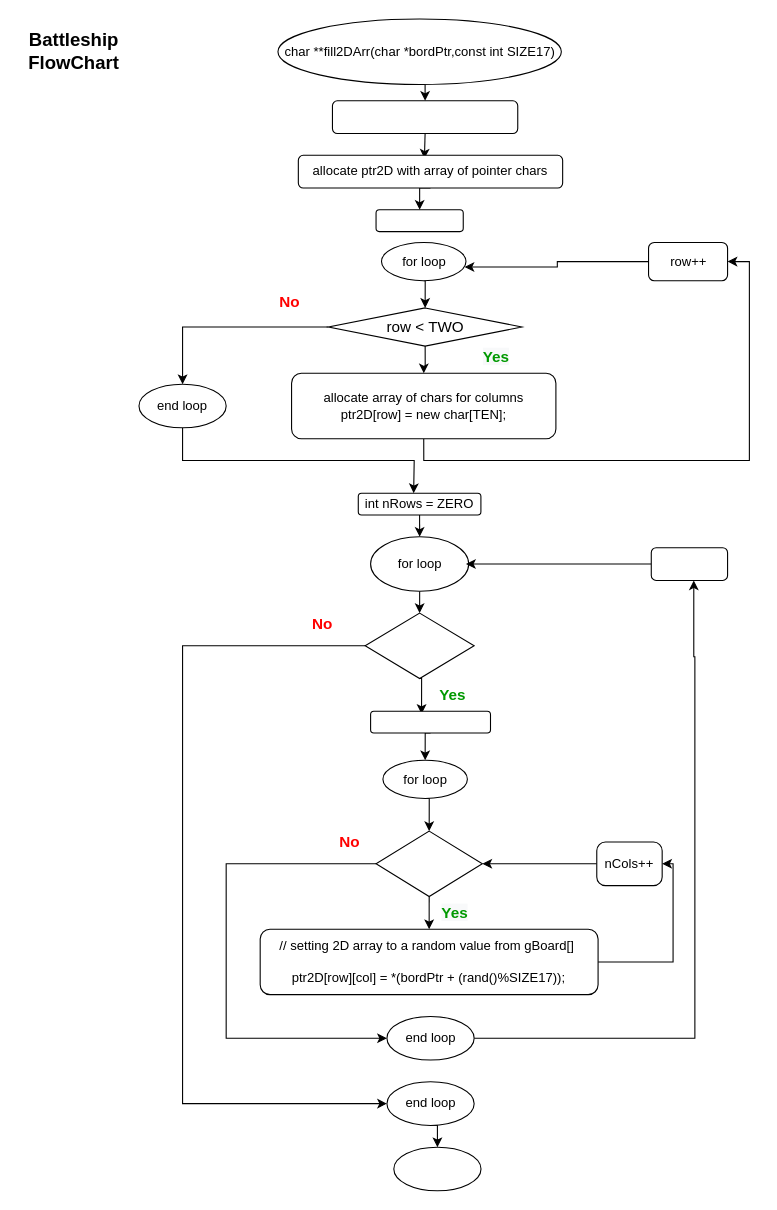
Image size: 777x1210. Some labels were removed from this diagram. Each missing label, with the box of its shape:
declare **ptr2D & set to null: (331, 100, 518, 134)
int nCols=ZERO: (370, 710, 491, 733)
int row = 0: (375, 209, 463, 232)
nCols < TEN: (375, 830, 482, 897)
nRows < TWO: (364, 612, 474, 679)
nRows++: (650, 547, 728, 580)
return ptr2D: (393, 1146, 481, 1191)
